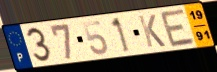1: (110, 16, 132, 54)
3: (26, 25, 53, 65)
5: (80, 19, 110, 56)
7: (48, 22, 74, 61)
E: (158, 7, 198, 49)
K: (137, 13, 168, 49)
